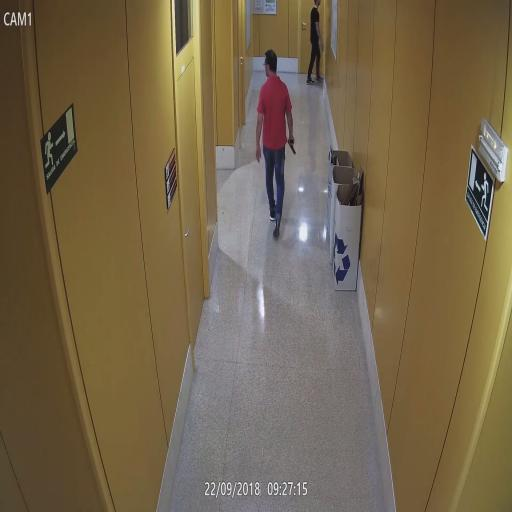Handgun: (286, 136, 296, 156), (318, 39, 324, 54)
